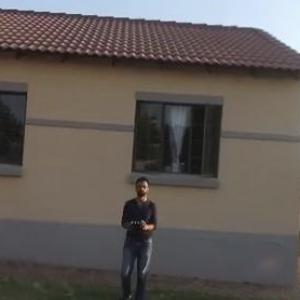follow: (112, 168, 156, 299)
